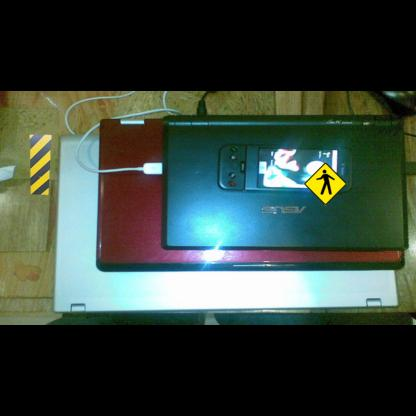A-32a: (304, 162, 347, 205)
O-MP: (30, 134, 51, 195)
